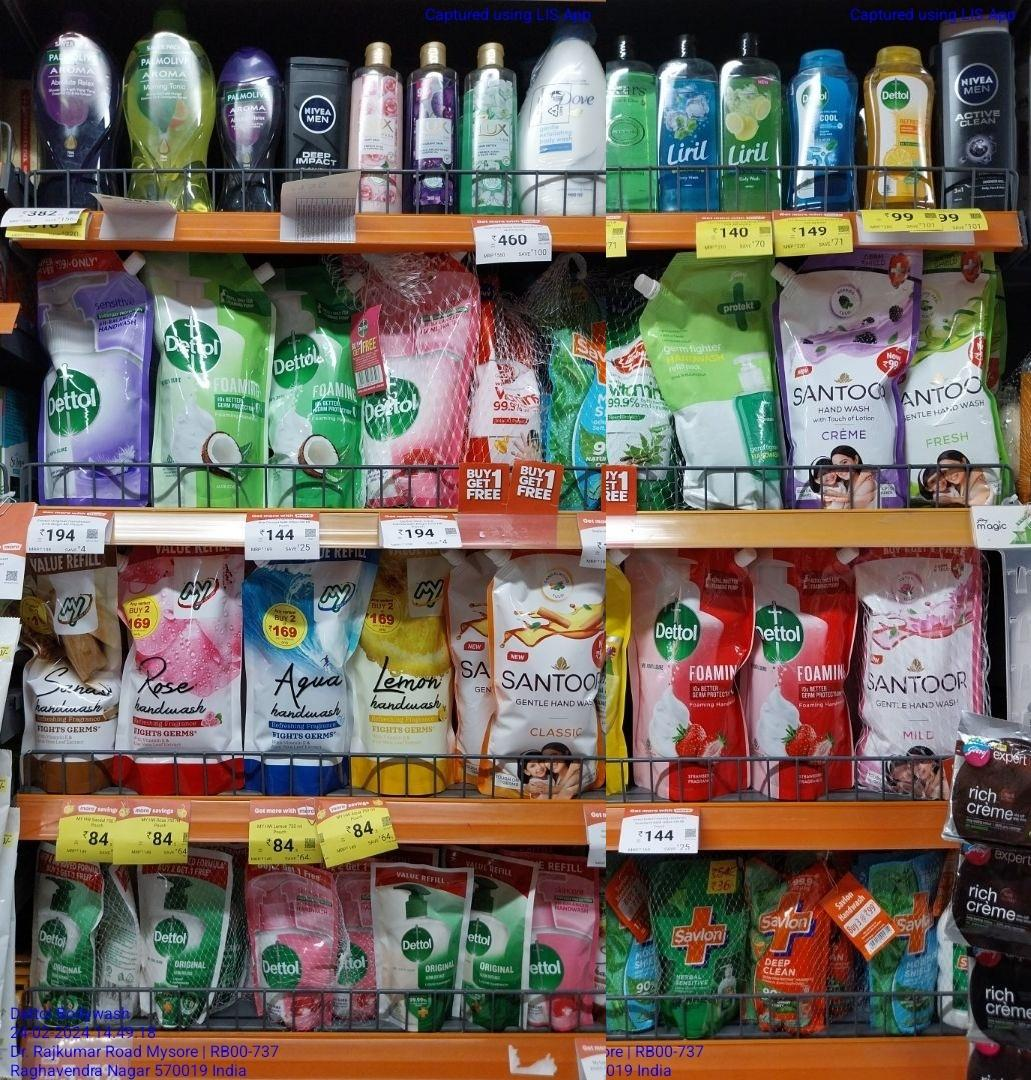Dettol_Bodywash_Cool: (791, 41, 857, 212)
Dettol_Bodywash_Refresh: (865, 40, 934, 212)
Liril_Cooling_Mint_Body_Wash_250ML: (659, 28, 719, 213)
Liril_Lime_and_Tea_Tree_Oil_Body_Wash_250ML: (726, 31, 784, 212)
Lux_Black_Orchid_Scent_and_Juniper_Oil_Body_Wash_245ML: (407, 36, 462, 214)
Lux_Body_Wash_Skin_Detox_Freesia_Scent_and_Alove_Vera_245ML: (466, 41, 514, 214)
Palmolive_Aroma_Relax_250ML: (221, 45, 281, 210)
Pears_Pure_Glycerin_and_Lemon_Flower_Extracts_Body_Wash_250ML: (606, 36, 655, 209)
